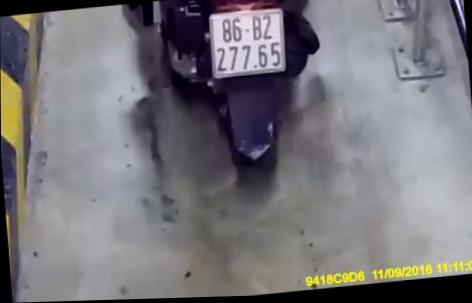LP: (207, 7, 289, 81)
